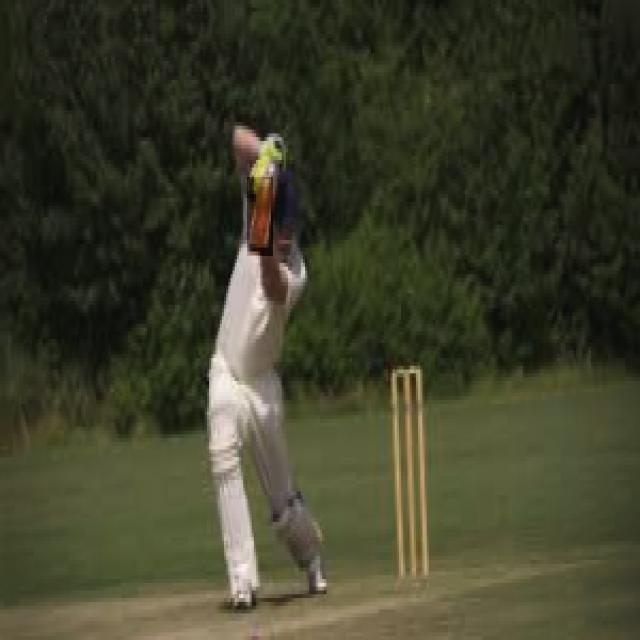bat: (244, 178, 275, 254)
toe: (241, 236, 275, 258)
